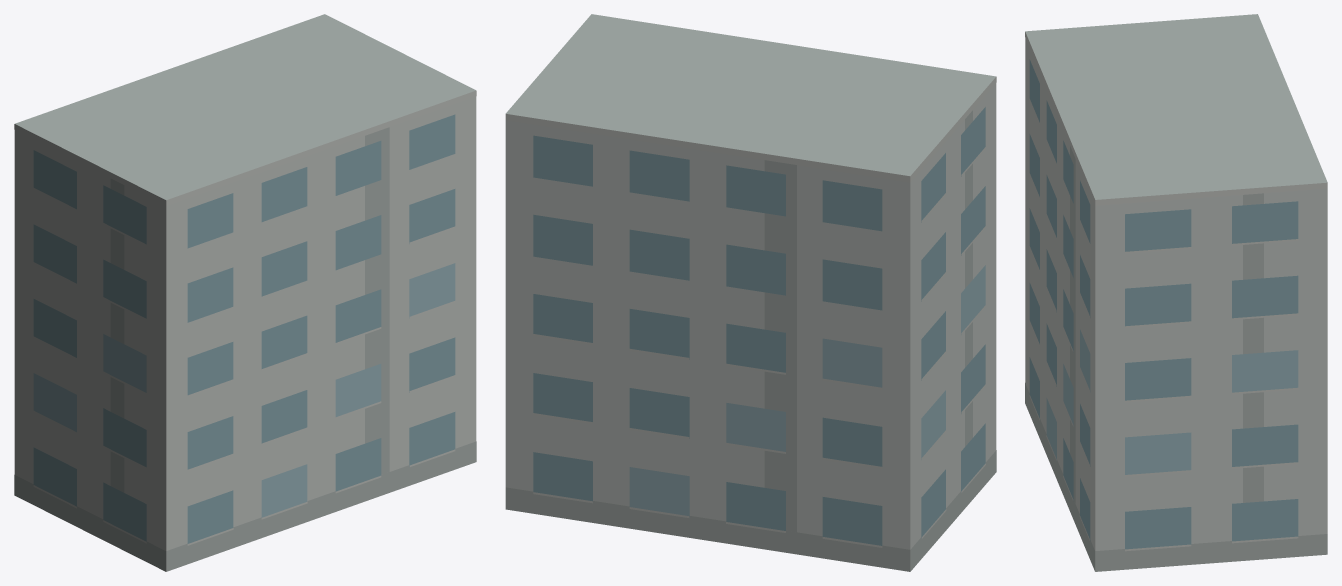
File: residential-53bb85a2-9da5-4cc2-a8d8-8f59d05a91c0.glb
3 renders of one model, left to right at view 1: azimuth 30°, elevation 25°; view 2: azimuth 150°, elevation 25°; view 3: azimuth 270°, elevation 25°, orthographic. The views are drawn at different scales.
Parts seen in each view (by area): view 1: residential-53bb85a2-9da5-4cc2-a8d8-8f59d05a91c0.tmp; view 2: residential-53bb85a2-9da5-4cc2-a8d8-8f59d05a91c0.tmp; view 3: residential-53bb85a2-9da5-4cc2-a8d8-8f59d05a91c0.tmp.
Boxes of the visible parts, left/top/right/bottom form: residential-53bb85a2-9da5-4cc2-a8d8-8f59d05a91c0.tmp: left=14, top=14, right=476, bottom=571; residential-53bb85a2-9da5-4cc2-a8d8-8f59d05a91c0.tmp: left=505, top=14, right=996, bottom=571; residential-53bb85a2-9da5-4cc2-a8d8-8f59d05a91c0.tmp: left=1025, top=14, right=1327, bottom=571.
Bounding box in the file's own units: 16.36 × 15.25 × 11.26.
